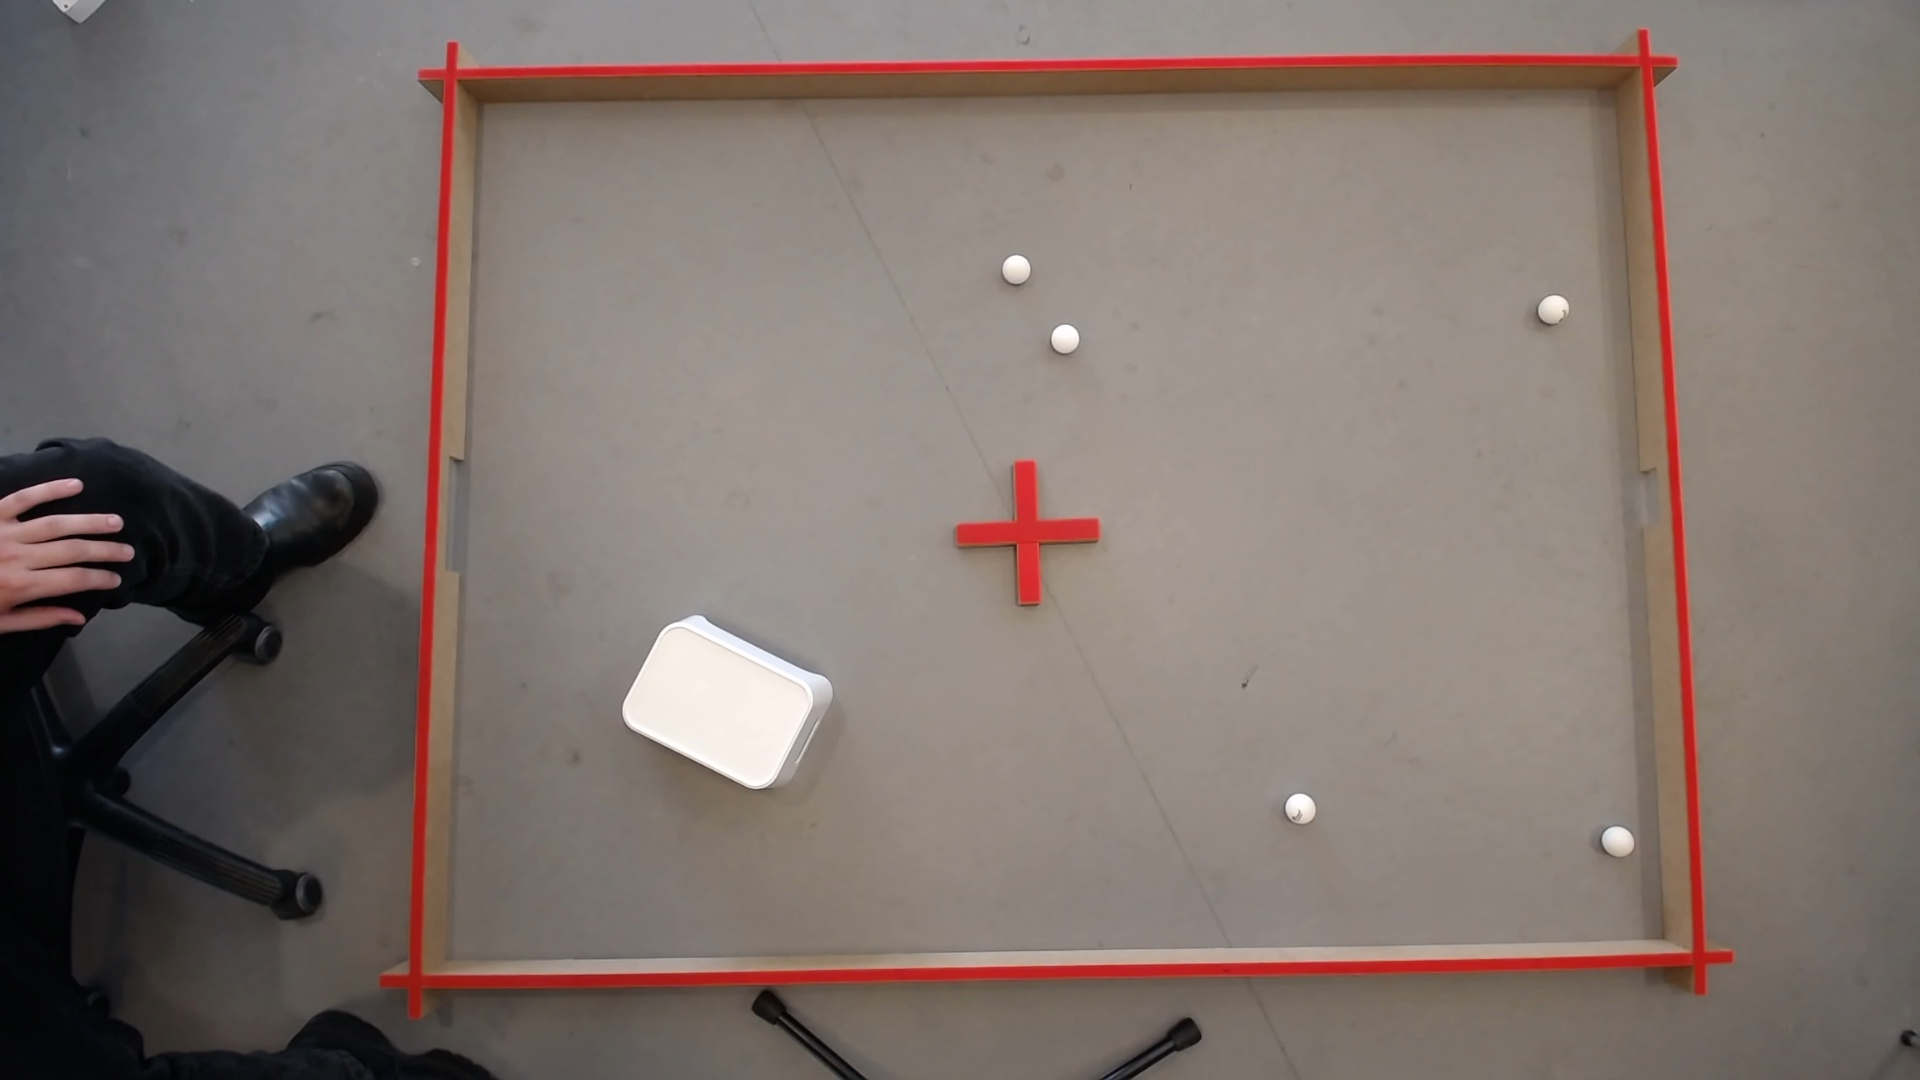balls: (613, 601, 828, 796), (1598, 820, 1636, 853), (1536, 289, 1572, 323), (998, 249, 1034, 282), (1051, 324, 1079, 348)
car: (59, 514, 87, 522)
